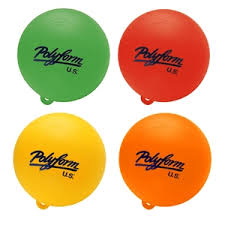buoy: (116, 8, 211, 99), (120, 113, 211, 208)
